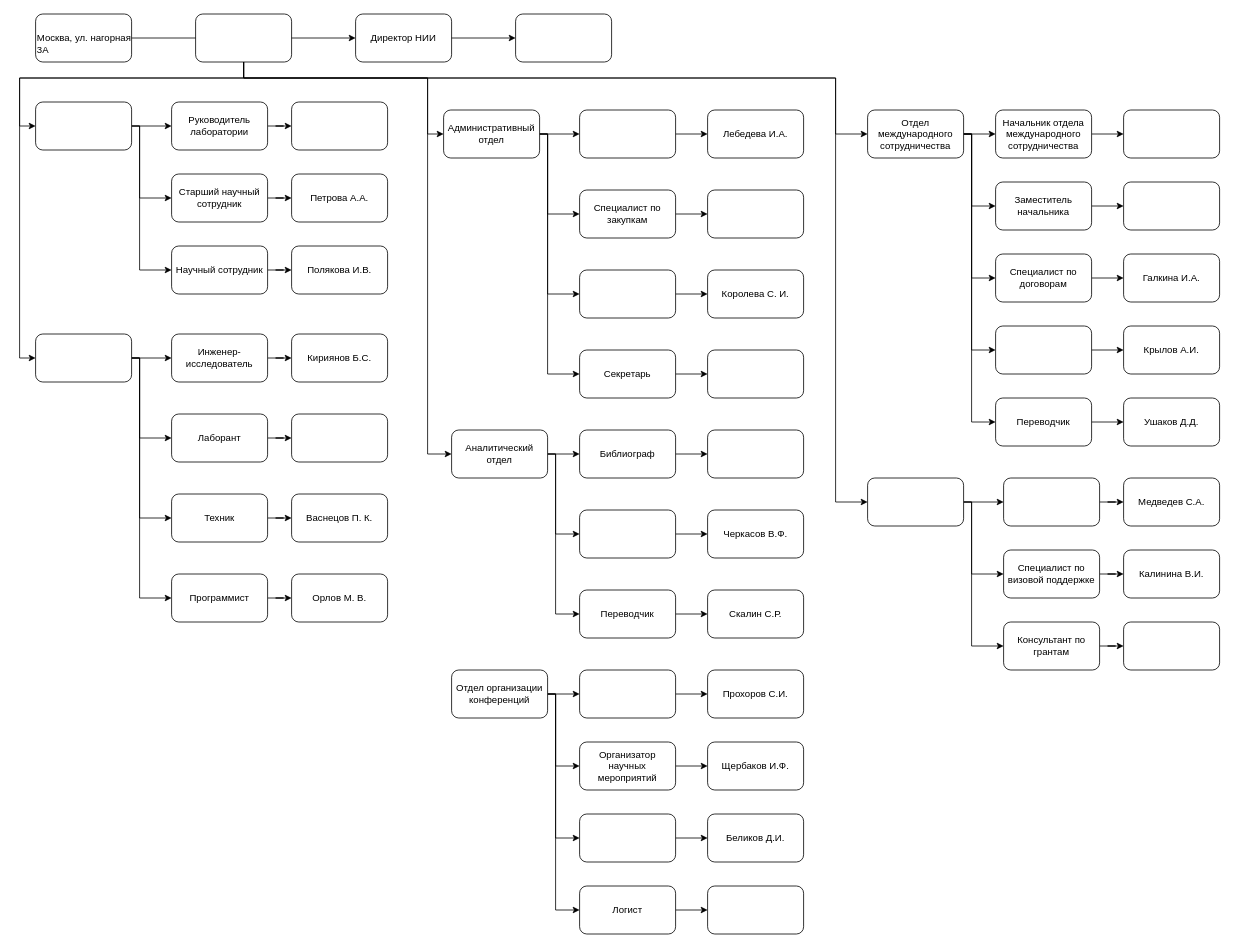
Image size: 1234x948. Some labels were removed from this diagram. The shapes that lost their labels are listed below. From the top down, each one's centre as x and y in pixels, then its label:
(243,37): Научно-исследовательский институт (НИИ)
(563,37): Новиков А.С.
(83,125): Ученый совет
(339,125): Иванов И.В
(627,133): Менеджер научных проектов
(1171,133): Суворов И.М.
(755,213): Белов И. А.
(1171,205): Тимофеева С.Г.
(627,293): Документовед
(83,357): Технический отдел
(1043,349): Координатор
(755,373): Столяров М. И.
(339,437): Воронцова С. И.
(755,453): Макарова С.Ю.
(915,501): Отдел академической мобильности
(1051,501): Руководитель отдела
(627,533): Статистик
(1171,645): Третьякова А.А.
(627,693): Менеджер по мероприятиям
(627,837): Специалист по техническому обеспечению
(755,909): Власов С.Г.
